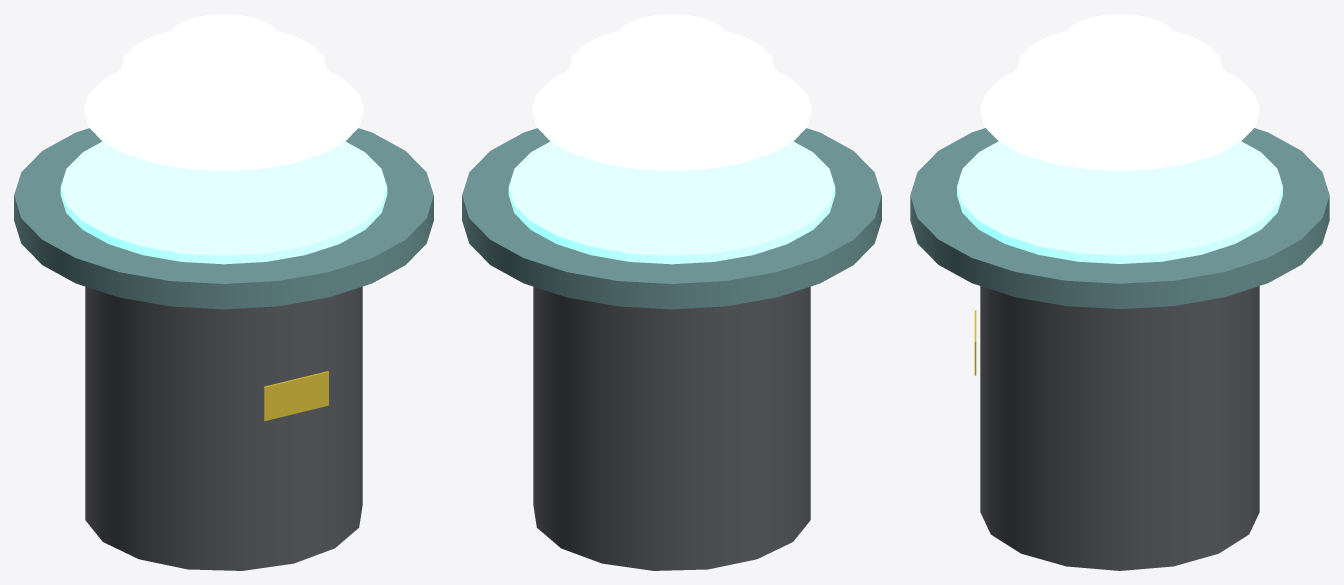
The model's file is holo_projector.glb.
3 renders of one model, left to right at view 1: azimuth 30°, elevation 25°; view 2: azimuth 150°, elevation 25°; view 3: azimuth 270°, elevation 25°, orthographic.
Visible parts, largest first — view 1: holo_projector; view 2: holo_projector; view 3: holo_projector.
Part boxes in pixels (x1,y1,x2,y2): holo_projector: (14,14,433,570); holo_projector: (462,14,881,570); holo_projector: (910,14,1329,570).
Bounding box in the file's own units: 0.9 × 1.12 × 0.9.
